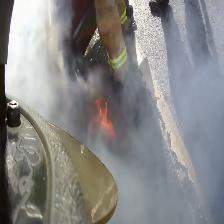fire: (85, 83, 128, 149)
smoke: (138, 0, 224, 224), (3, 0, 112, 166)
